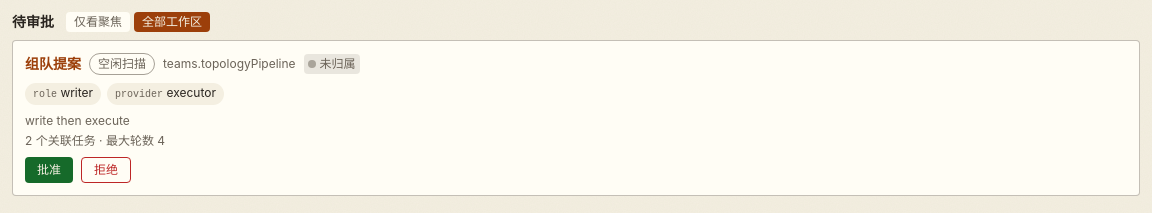
Test case: ApprovalsView — team proposals (P2-F 组 2) › deny resolves the proposal without touching tool approvals
Expected: the text "空闲扫描" is shown, left=89, top=53, right=155, bottom=75
Click the button "拒绝" at [106, 170], box left=81, top=157, right=131, bottom=183
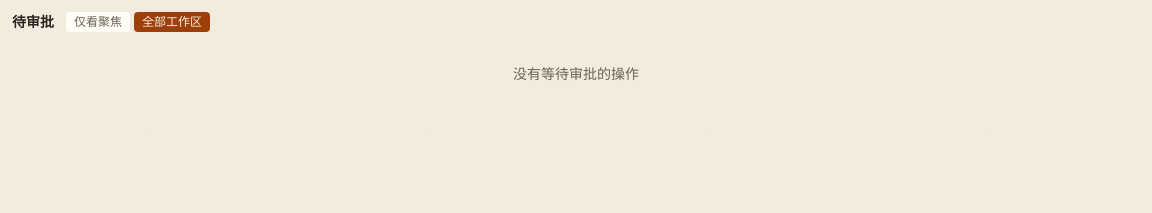
Expected: the text "空闲扫描" is gone
